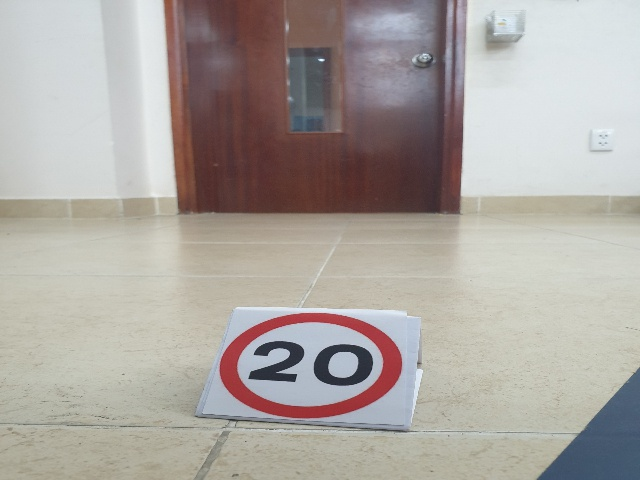Limit 20: (220, 312, 400, 424)
